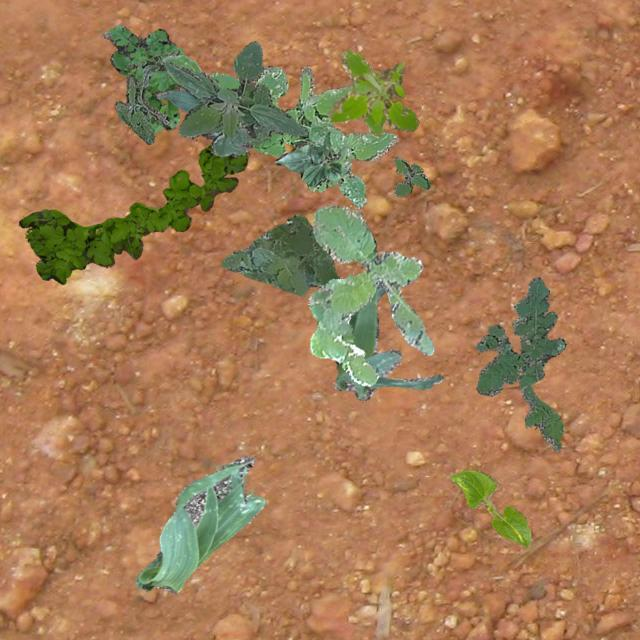crop: (134, 454, 264, 592), (164, 40, 306, 156), (334, 284, 442, 399), (448, 468, 530, 546), (157, 54, 219, 110), (274, 142, 350, 185)
weed: (18, 144, 246, 284), (208, 64, 398, 208), (308, 204, 432, 386), (474, 276, 564, 450), (220, 212, 338, 294), (102, 23, 184, 132), (327, 47, 418, 136), (114, 48, 178, 144), (392, 156, 428, 194)
